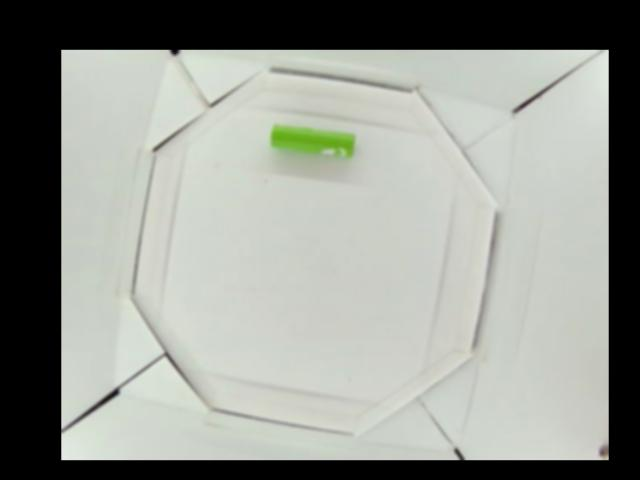Battery: (270, 124, 356, 154)
